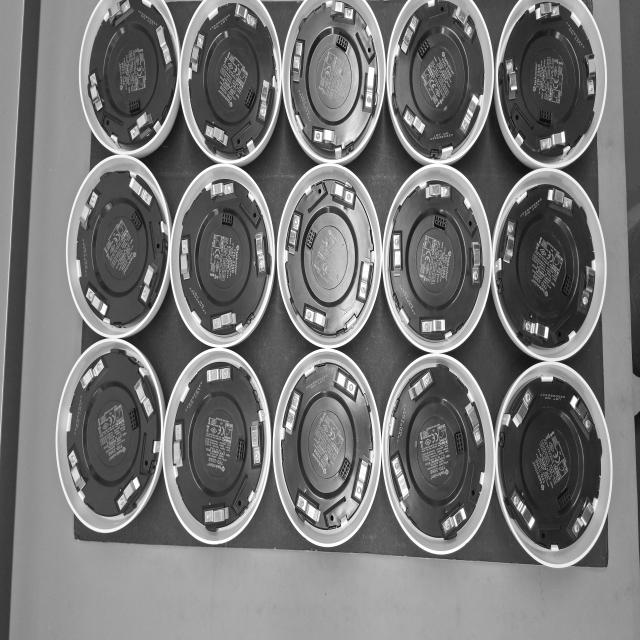yayli: (510, 489, 536, 532), (569, 393, 594, 433), (390, 454, 410, 502), (570, 498, 594, 538), (352, 454, 371, 504), (511, 389, 534, 430), (283, 389, 303, 435), (451, 6, 475, 43), (331, 367, 357, 401), (295, 491, 321, 525), (459, 93, 479, 136), (128, 176, 153, 210), (80, 358, 104, 393), (116, 477, 140, 512), (356, 258, 374, 304), (80, 190, 99, 232), (135, 377, 154, 419), (466, 402, 484, 446), (402, 106, 425, 140), (330, 180, 356, 210), (399, 15, 419, 54), (129, 110, 154, 141), (68, 449, 86, 492), (140, 264, 158, 306), (408, 370, 433, 400), (546, 187, 573, 214), (85, 286, 108, 317), (442, 506, 466, 535), (581, 266, 596, 312), (156, 25, 172, 68), (286, 212, 302, 254), (538, 130, 566, 154), (522, 319, 550, 342), (204, 122, 228, 148), (190, 34, 206, 73), (355, 30, 374, 62), (88, 72, 103, 112), (235, 3, 258, 29), (258, 80, 272, 122), (363, 66, 376, 111), (503, 220, 516, 264), (584, 54, 596, 100), (108, 1, 130, 26), (470, 241, 482, 284), (251, 420, 262, 466), (292, 41, 304, 83), (506, 60, 518, 102), (173, 422, 184, 467), (536, 2, 562, 21), (212, 312, 236, 332), (314, 127, 338, 147), (210, 180, 235, 198), (206, 366, 232, 383), (392, 232, 402, 276), (204, 506, 228, 524), (427, 182, 449, 201), (255, 232, 265, 273), (180, 237, 190, 278), (421, 318, 444, 334), (330, 1, 347, 19)
